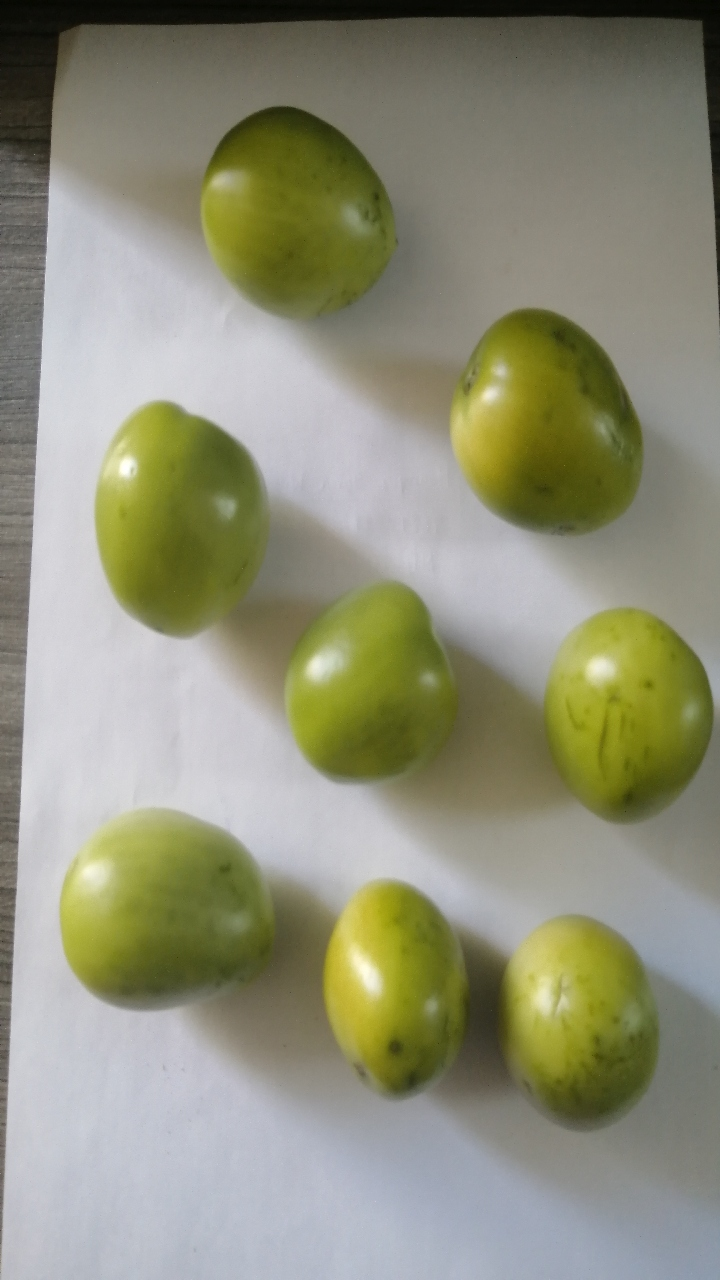tomateVerde: (426, 280, 664, 562), (26, 792, 291, 1039), (72, 379, 288, 659), (186, 97, 423, 340), (521, 588, 720, 865), (260, 568, 472, 812), (486, 895, 675, 1154), (312, 866, 480, 1129)
